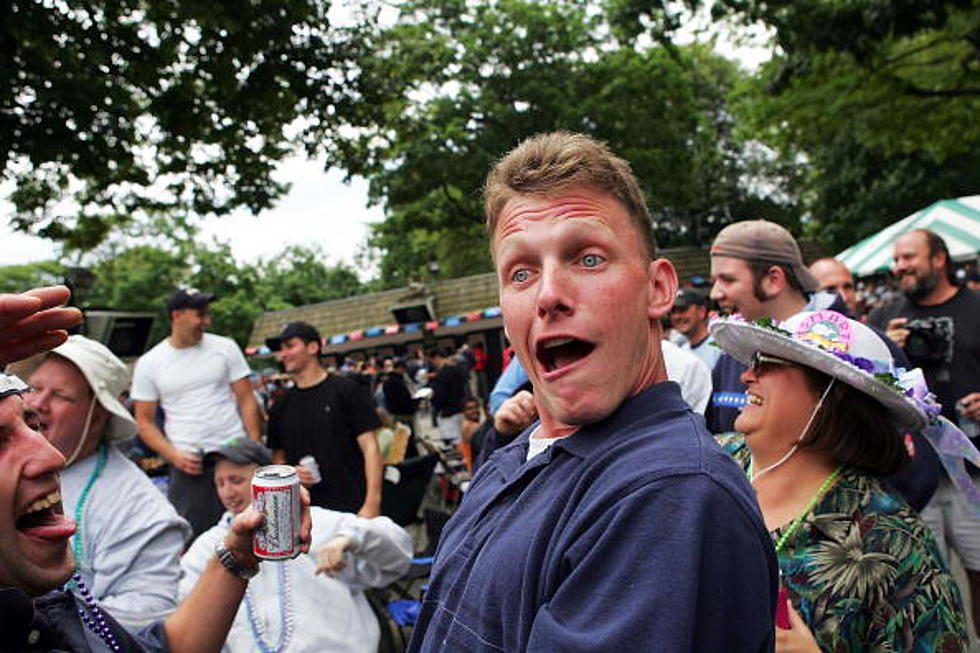Drunk: (483, 192, 633, 419)
